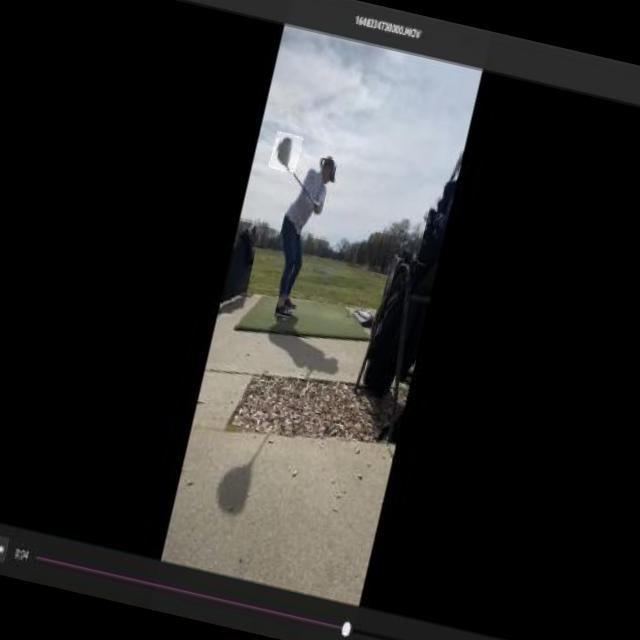club head: (268, 130, 303, 173)
